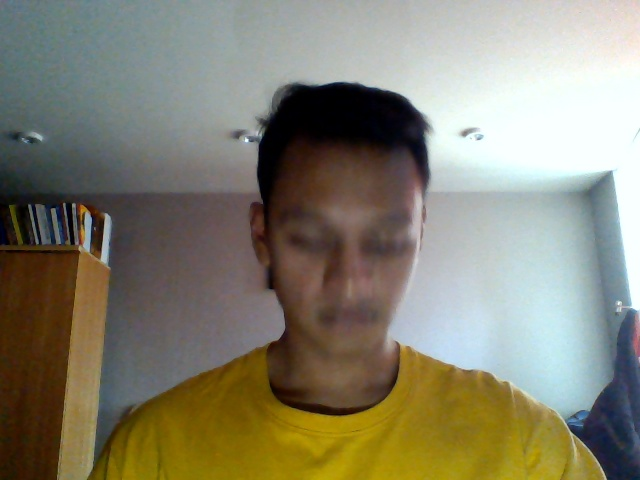no_mask: (261, 265, 409, 351)
